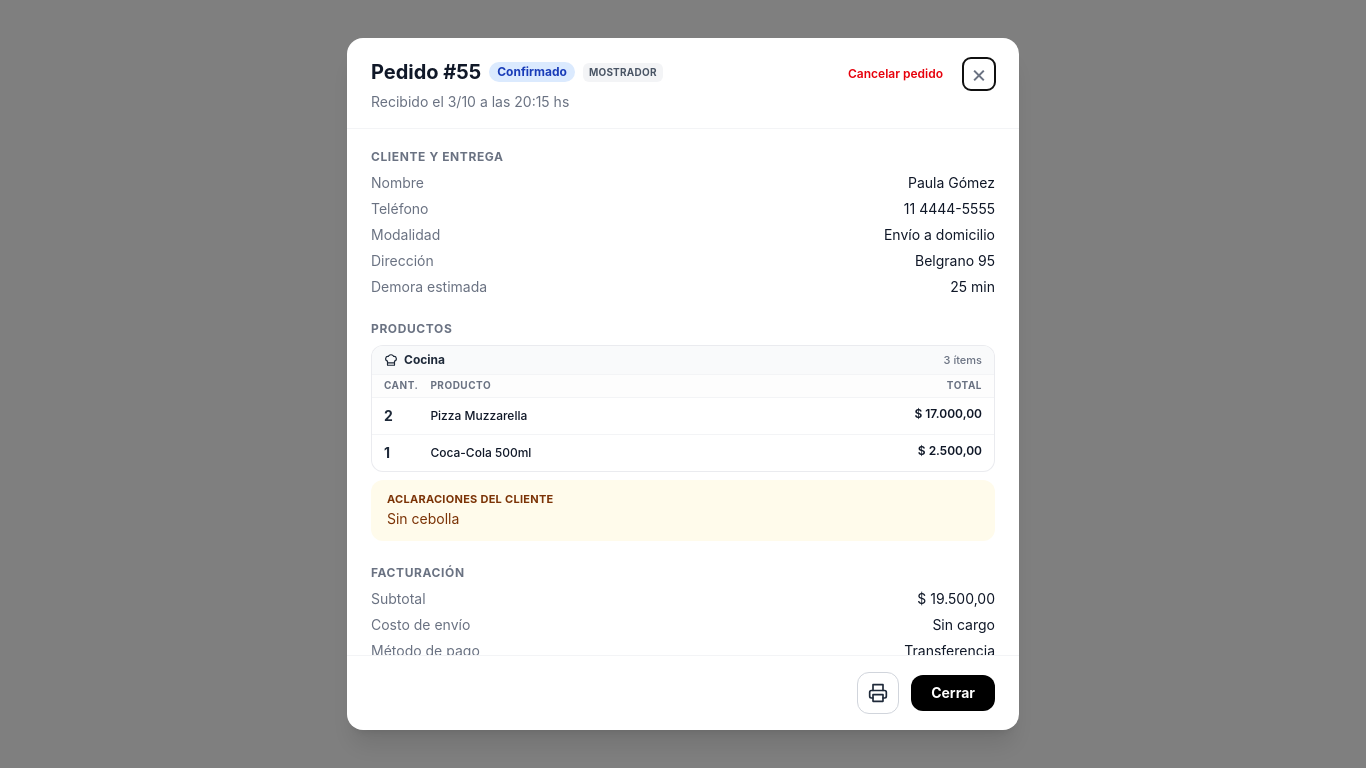
Test: OrderDetailModal › se puede desistir de cancelar
This screenshot has width=1366, height=768.
Click the button "Cancelar pedido".
click(896, 74)  # box [836,60,955,88]
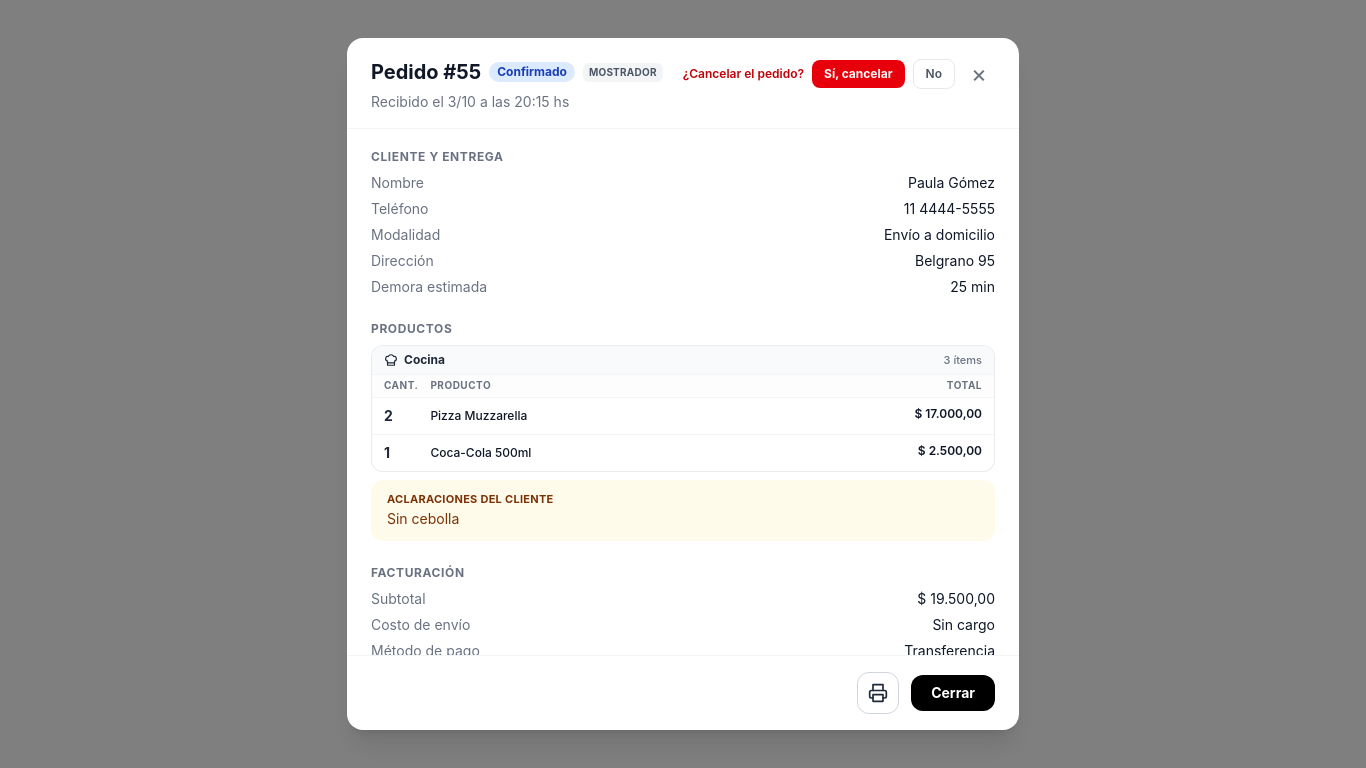
Click the button "No".
click(934, 74)  # box [913,59,955,89]
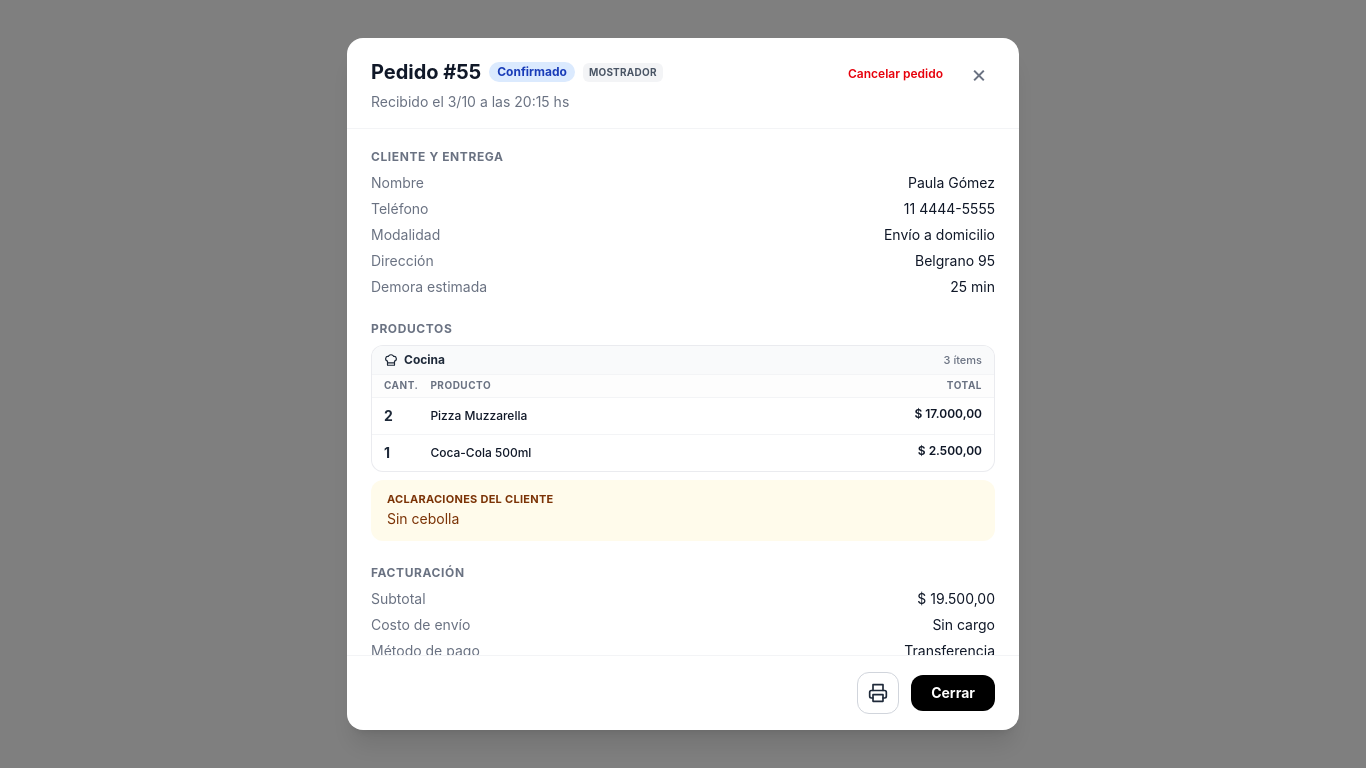
Expected: the button "Cancelar pedido" is shown, [836,60,955,88]
